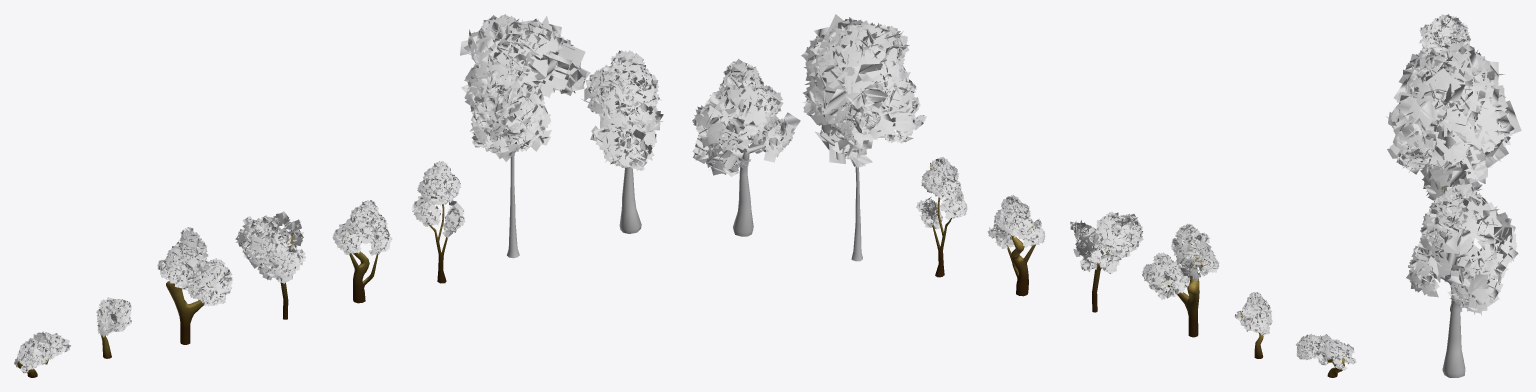
Rendered from 000_Recalculado normales.fbx.
The picture shows the model from 3 angles, left to right: view 1: azimuth 30°, elevation 25°; view 2: azimuth 150°, elevation 25°; view 3: azimuth 270°, elevation 25°; orthographic projection. The views are drawn at different scales.
Visible parts, largest first — view 1: 7_Arbol_LOD0, 8_Arbol_LOD0, 4_Arbol_LOD0, 3_Arbol_LOD0, 6_Arbol_LOD0, 5_Arbol_LOD0, 1_Arbol_LOD0, 2_Arbol_LOD0, 8_Arbol_LOD0.001, 3_Arbol_LOD0.001, 5_Arbol_LOD0.001, 7_Arbol_LOD0.001; view 2: 7_Arbol_LOD0, 8_Arbol_LOD0, 3_Arbol_LOD0, 4_Arbol_LOD0, 6_Arbol_LOD0, 5_Arbol_LOD0, 1_Arbol_LOD0, 8_Arbol_LOD0.001, 2_Arbol_LOD0, 5_Arbol_LOD0.001, 3_Arbol_LOD0.001, 7_Arbol_LOD0.001; view 3: 7_Arbol_LOD0, 8_Arbol_LOD0, 8_Arbol_LOD0.001, 3_Arbol_LOD0, 1_Arbol_LOD0.
Part boxes in pixels (bbox=[...]): 7_Arbol_LOD0: bbox=[460, 14, 590, 161]; 8_Arbol_LOD0: bbox=[581, 50, 663, 170]; 4_Arbol_LOD0: bbox=[235, 211, 305, 283]; 3_Arbol_LOD0: bbox=[157, 227, 232, 306]; 6_Arbol_LOD0: bbox=[411, 161, 465, 237]; 5_Arbol_LOD0: bbox=[332, 200, 392, 255]; 1_Arbol_LOD0: bbox=[14, 331, 70, 373]; 2_Arbol_LOD0: bbox=[96, 297, 131, 337]; 8_Arbol_LOD0.001: bbox=[596, 115, 641, 233]; 3_Arbol_LOD0.001: bbox=[166, 260, 209, 344]; 5_Arbol_LOD0.001: bbox=[349, 228, 378, 303]; 7_Arbol_LOD0.001: bbox=[485, 25, 520, 258]; 7_Arbol_LOD0: bbox=[801, 14, 926, 167]; 8_Arbol_LOD0: bbox=[692, 58, 800, 176]; 3_Arbol_LOD0: bbox=[1142, 223, 1219, 299]; 4_Arbol_LOD0: bbox=[1070, 211, 1143, 273]; 6_Arbol_LOD0: bbox=[916, 157, 967, 229]; 5_Arbol_LOD0: bbox=[987, 195, 1045, 248]; 1_Arbol_LOD0: bbox=[1296, 333, 1356, 370]; 8_Arbol_LOD0.001: bbox=[711, 127, 795, 236]; 2_Arbol_LOD0: bbox=[1234, 292, 1272, 335]; 5_Arbol_LOD0.001: bbox=[1003, 223, 1035, 296]; 3_Arbol_LOD0.001: bbox=[1161, 250, 1202, 337]; 7_Arbol_LOD0.001: bbox=[820, 98, 905, 261]; 7_Arbol_LOD0: bbox=[1386, 41, 1521, 199]; 8_Arbol_LOD0: bbox=[1406, 181, 1518, 315]; 8_Arbol_LOD0.001: bbox=[1408, 236, 1475, 377]; 3_Arbol_LOD0: bbox=[1418, 14, 1459, 60]; 1_Arbol_LOD0: bbox=[1451, 16, 1470, 45].
Size of the model in its own units: 9771 by 3492 by 1636.
